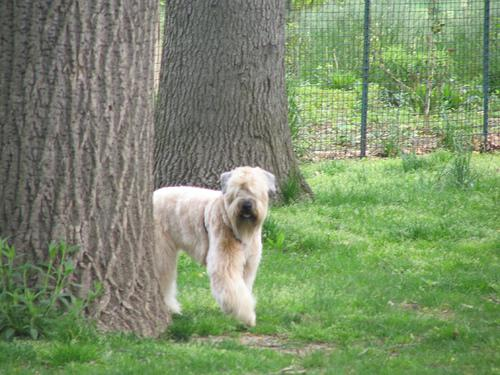dog-wheaten_terrier: (218, 165, 275, 227)
